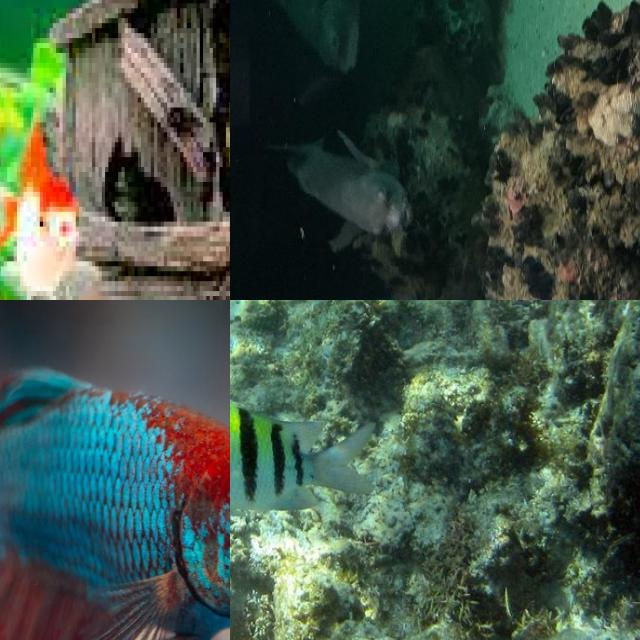fish: (0, 0, 230, 300), (0, 304, 180, 540), (230, 390, 368, 513), (251, 0, 369, 74)
